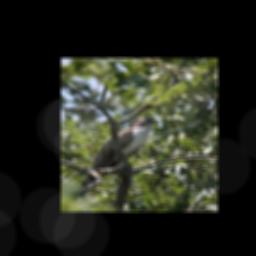Cuckoo: (71, 117, 161, 201)
